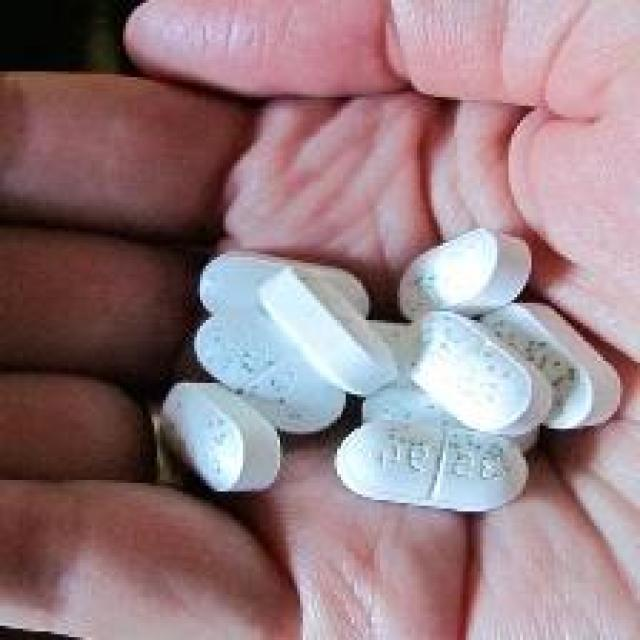Medicine: (146, 204, 640, 522)
